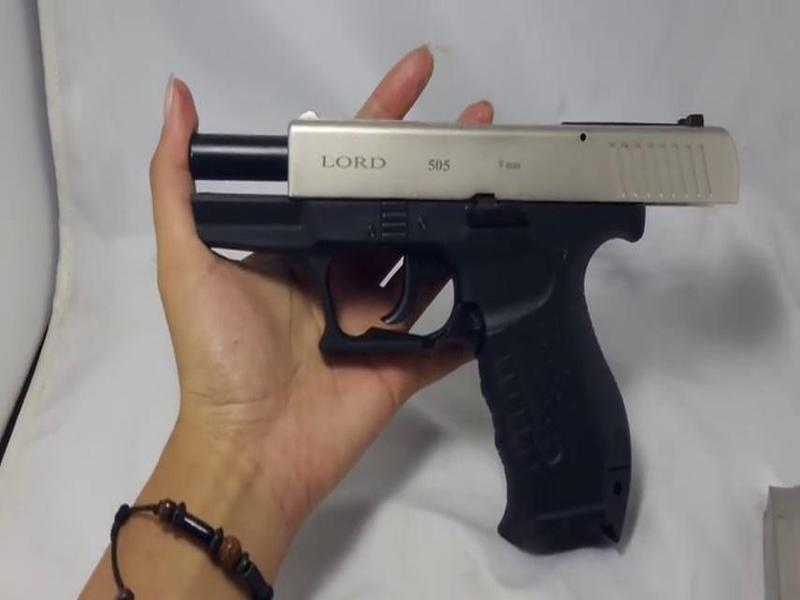Pistola: (142, 118, 758, 538)
